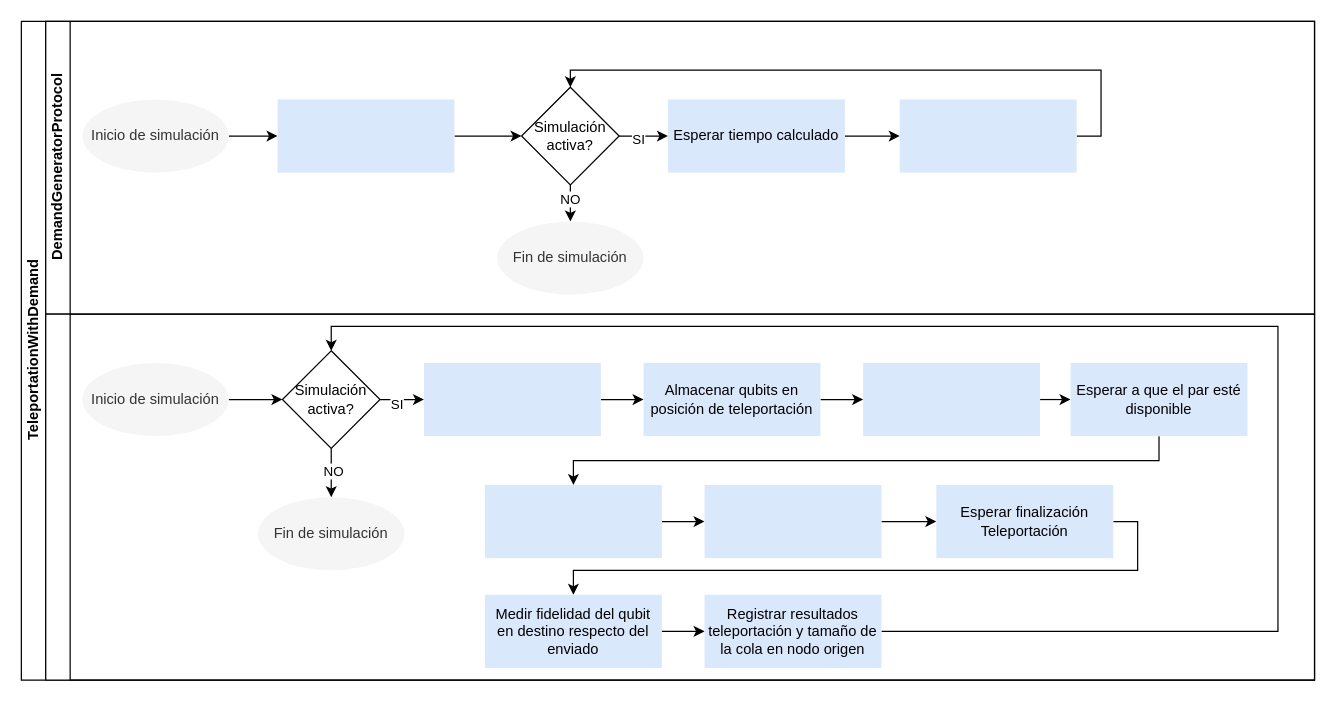
Image size: 1336x702. Some labels were removed from this diagram. Each missing label, with the box of its shape:
Calcular tiempo entre peticiones: (277, 99, 454, 172)
Encolar en el nodo nueva petición de teleportación: (899, 99, 1076, 172)
Enviar correcciones al nodo final: (704, 484, 881, 558)
Realizar mediciones en la base de Bell en nodo origen: (484, 484, 661, 558)
Recoger qubit de la cola. Si no hay, esperar 1000ns: (423, 362, 600, 436)
Solicitar entrelazamiento entre extremos al RouteProtocol: (863, 362, 1039, 436)
TeleportApplication: (45, 313, 1315, 680)
